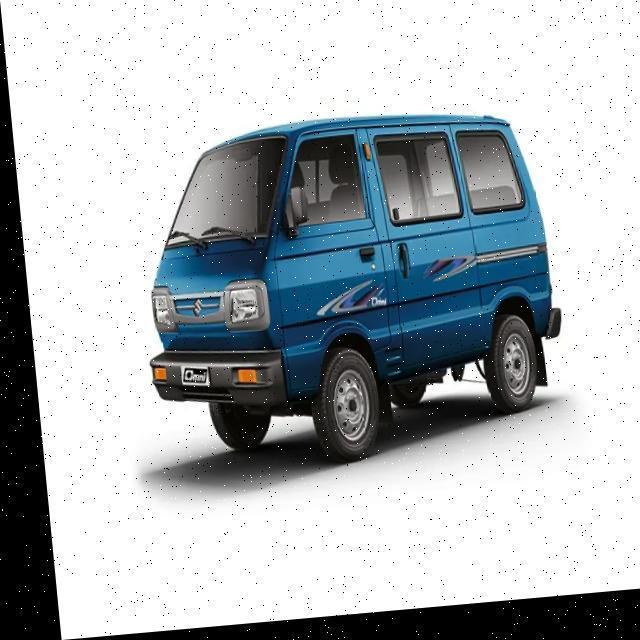Ambulance: (122, 104, 566, 484)
